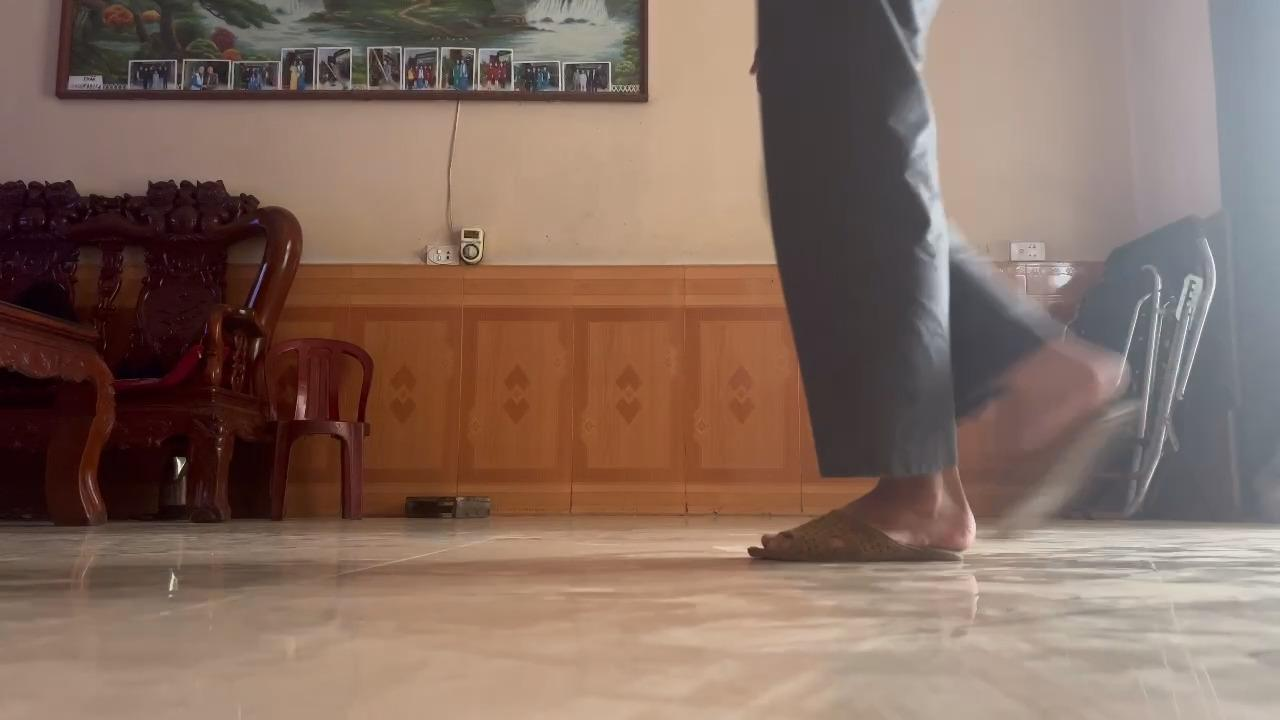no-boot: (986, 336, 1145, 551), (740, 477, 982, 575)
